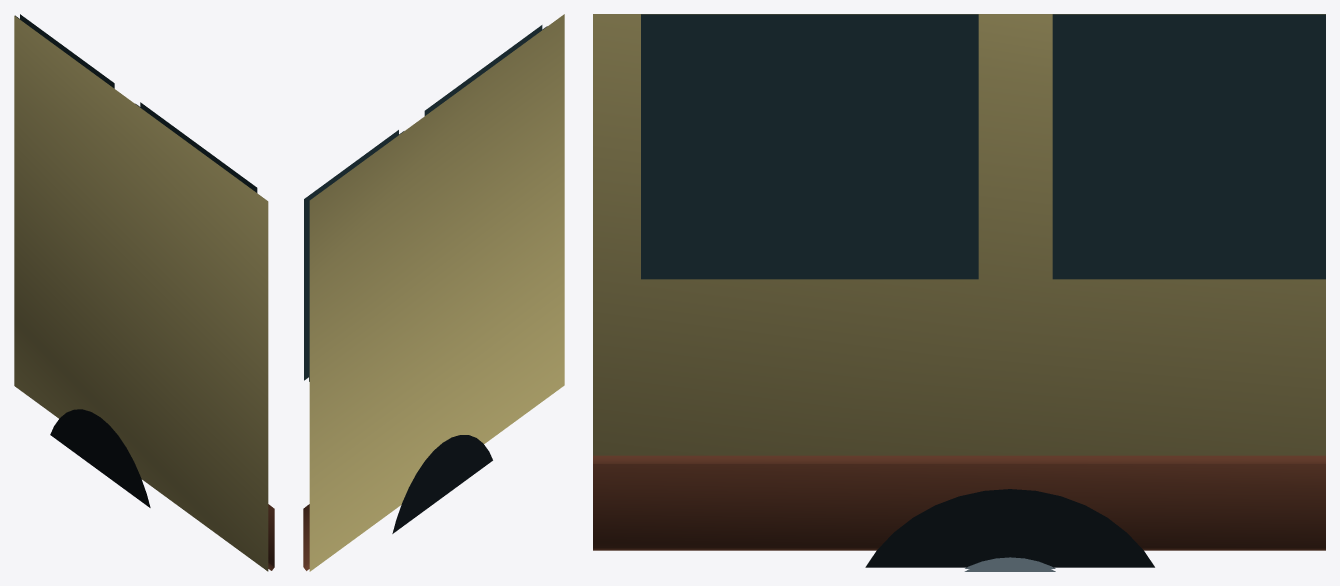
The model's file is bus-right.glb.
The picture shows the model from 3 angles, left to right: view 1: azimuth 30°, elevation 25°; view 2: azimuth 150°, elevation 25°; view 3: azimuth 270°, elevation 25°; orthographic projection. The views are drawn at different scales.
Size of the model in its own units: 0.27 by 1.68 by 2.08.
Materials: 1 (1 with a texture image).
